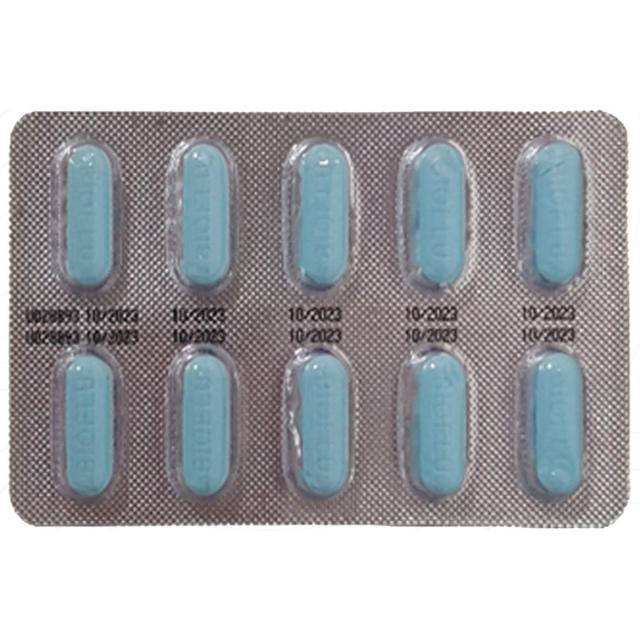blister: (4, 105, 635, 532)
